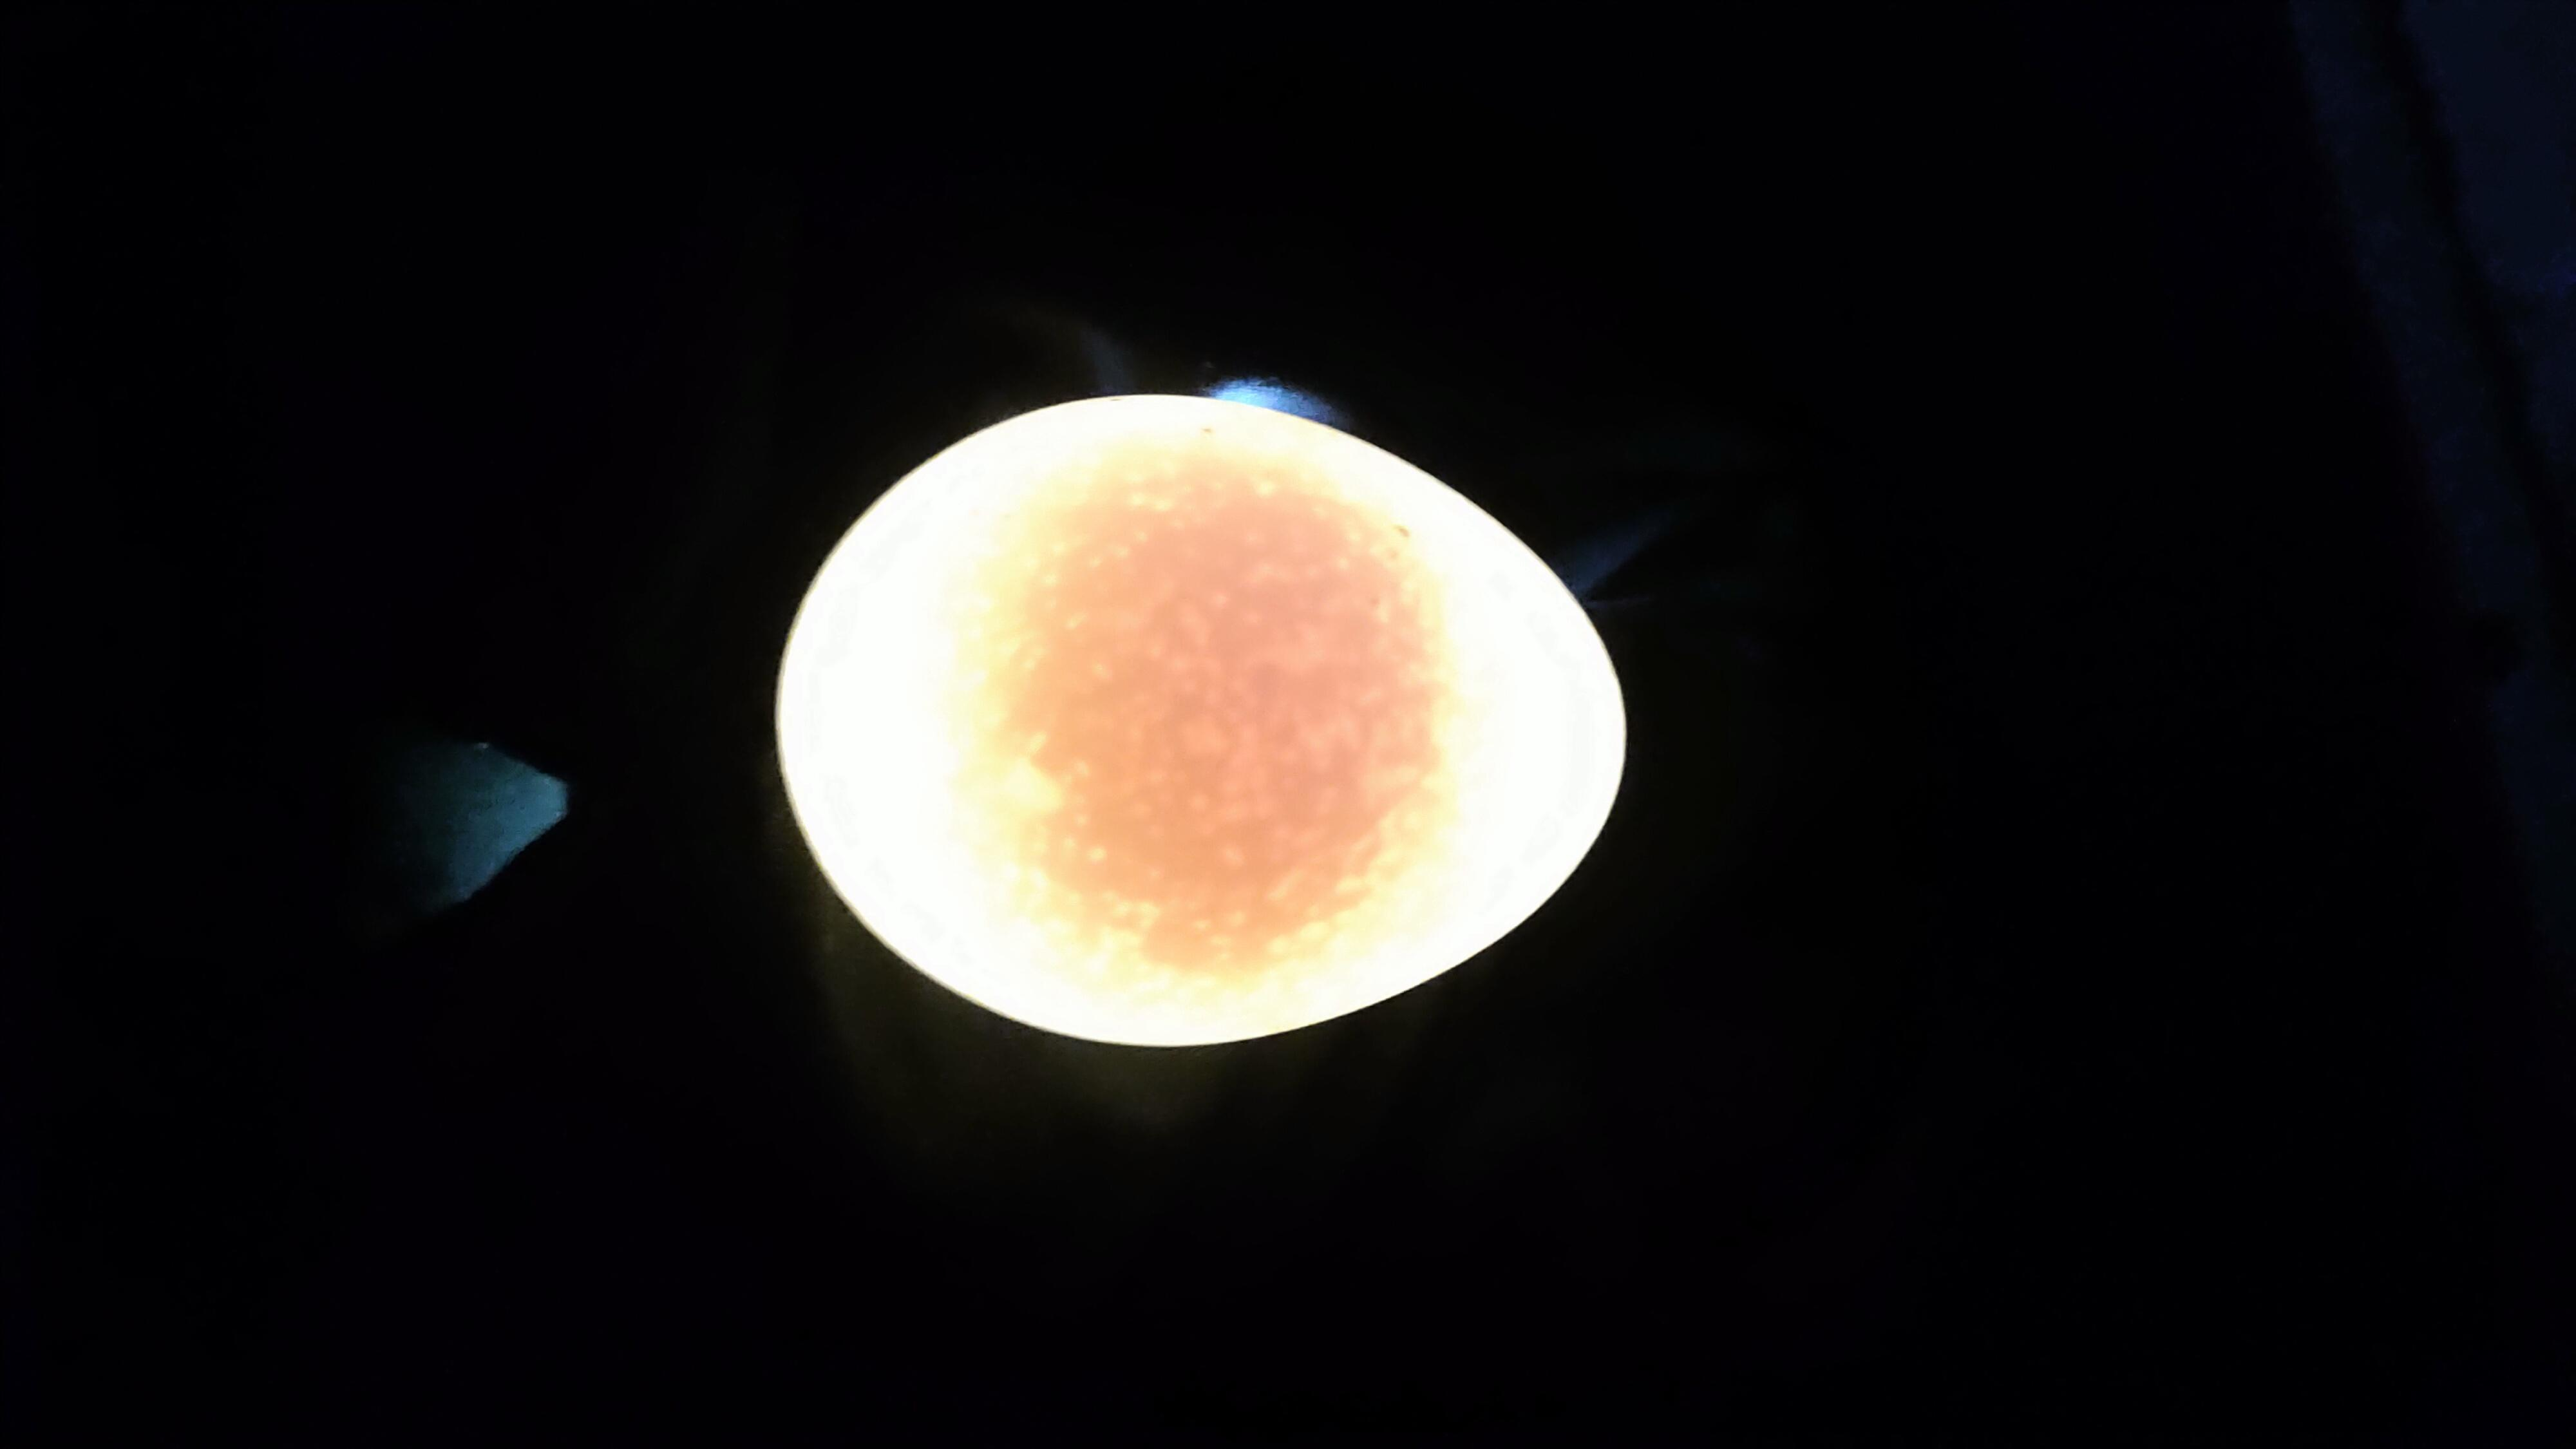Inedible: (617, 504, 1992, 1058)
